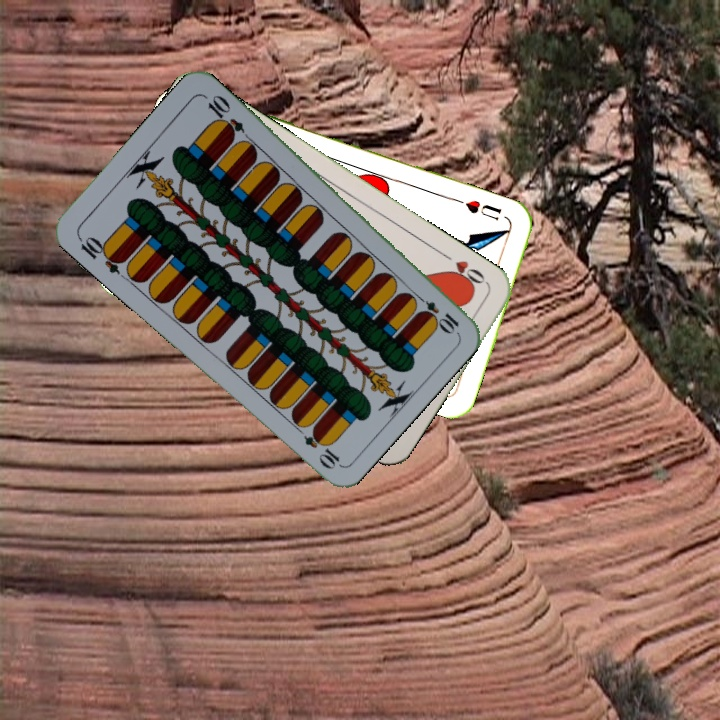E10: (74, 232, 128, 277), (410, 289, 462, 335)
HO: (438, 249, 490, 292)
HU: (461, 196, 504, 224)
